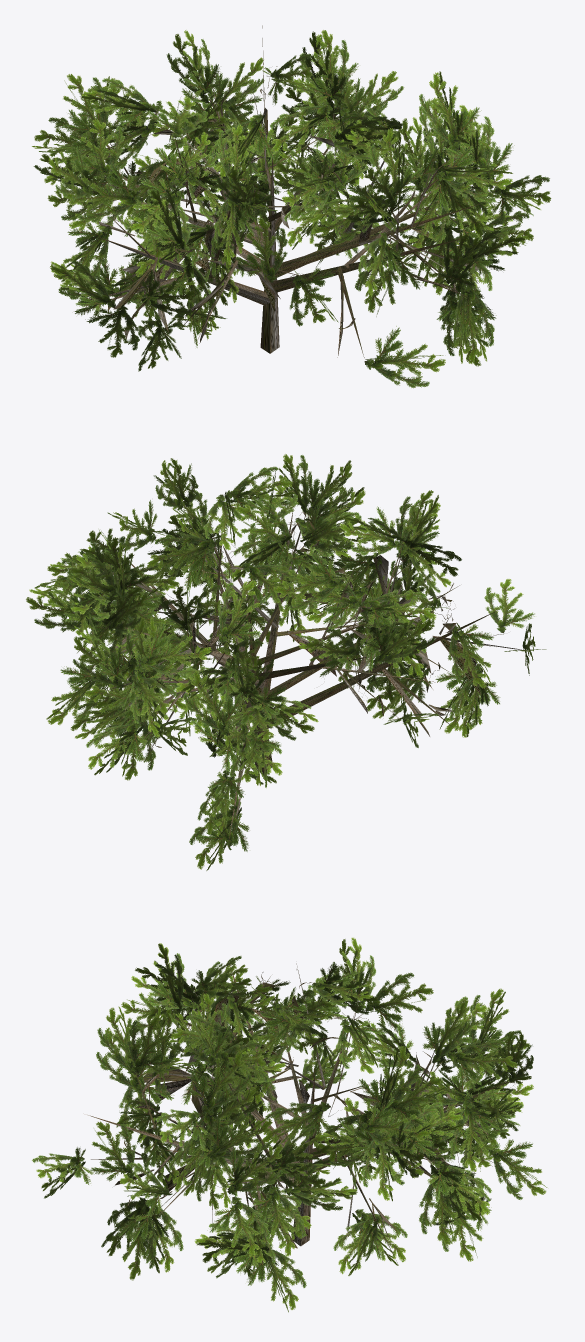
The model's file is tree_03_bush.glb.
3 renders of one model, top to bottom at view 1: azimuth 30°, elevation 25°; view 2: azimuth 150°, elevation 25°; view 3: azimuth 270°, elevation 25°, orthographic. The views are drawn at different scales.
Visible parts, largest first — view 1: tree_03; view 2: tree_03; view 3: tree_03.
Boxes of the visible parts, bbox=[...] form: tree_03: bbox=[32, 25, 551, 388]; tree_03: bbox=[26, 454, 546, 870]; tree_03: bbox=[32, 937, 547, 1312].
Bounding box in the file's own units: 5.34 × 3.26 × 4.98.
2 materials, 2 textured.
